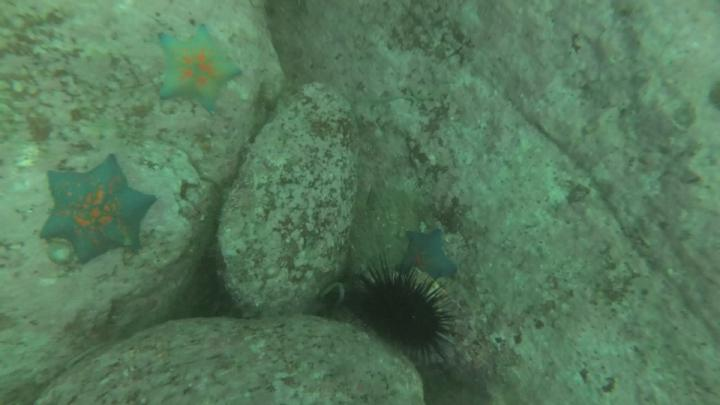echinus: (346, 256, 459, 364)
starfish: (42, 151, 158, 268), (157, 22, 244, 113), (396, 228, 461, 285)
